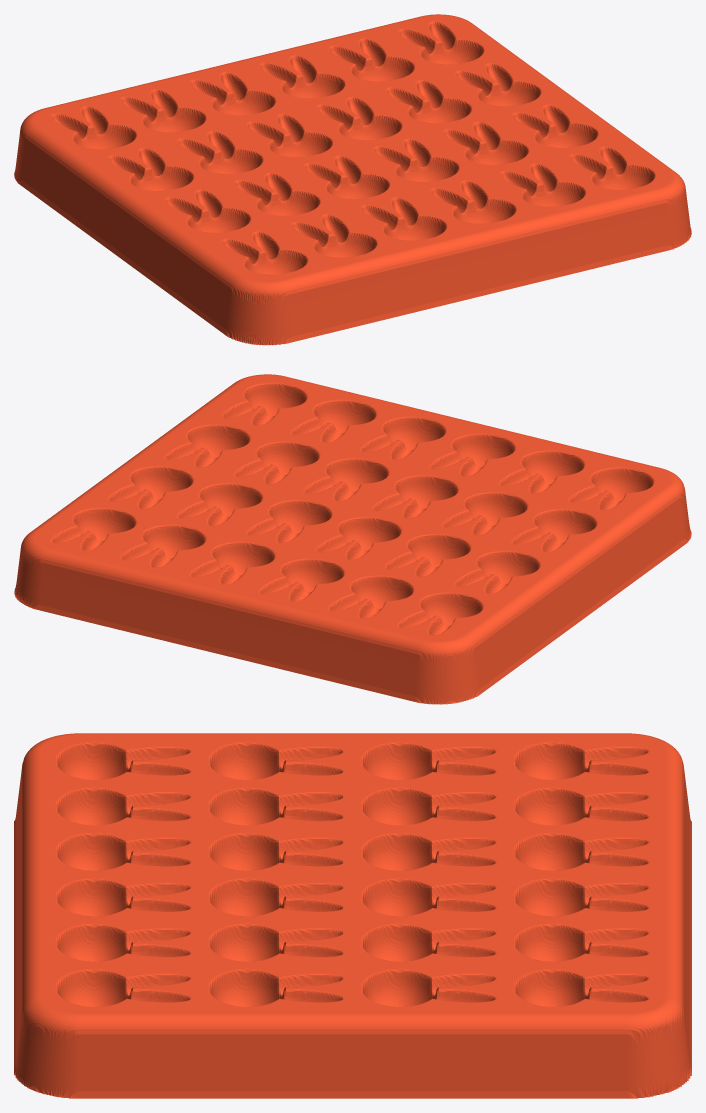
Rendered from mold.glb.
3 renders of one model, top to bottom at view 1: azimuth 30°, elevation 25°; view 2: azimuth 150°, elevation 25°; view 3: azimuth 270°, elevation 25°, orthographic. The views are drawn at different scales.
Parts seen in each view (by area): view 1: geometry_0; view 2: geometry_0; view 3: geometry_0.
Boxes of the visible parts, left/top/right/bottom form: geometry_0: left=14, top=14, right=691, bottom=345; geometry_0: left=14, top=374, right=691, bottom=704; geometry_0: left=14, top=733, right=691, bottom=1098.
Size of the model in its own units: 0.0989 by 0.0113 by 0.0942.
